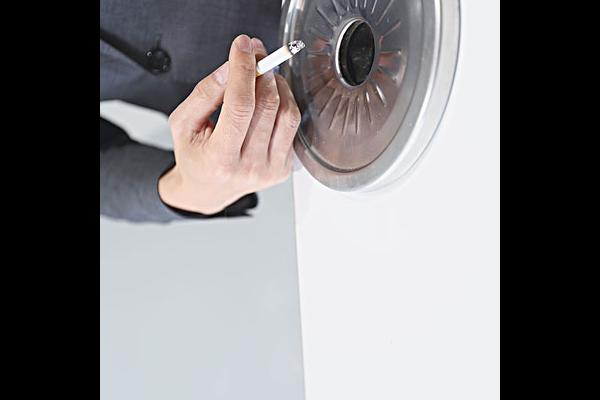Cigarette: (249, 40, 304, 77)
